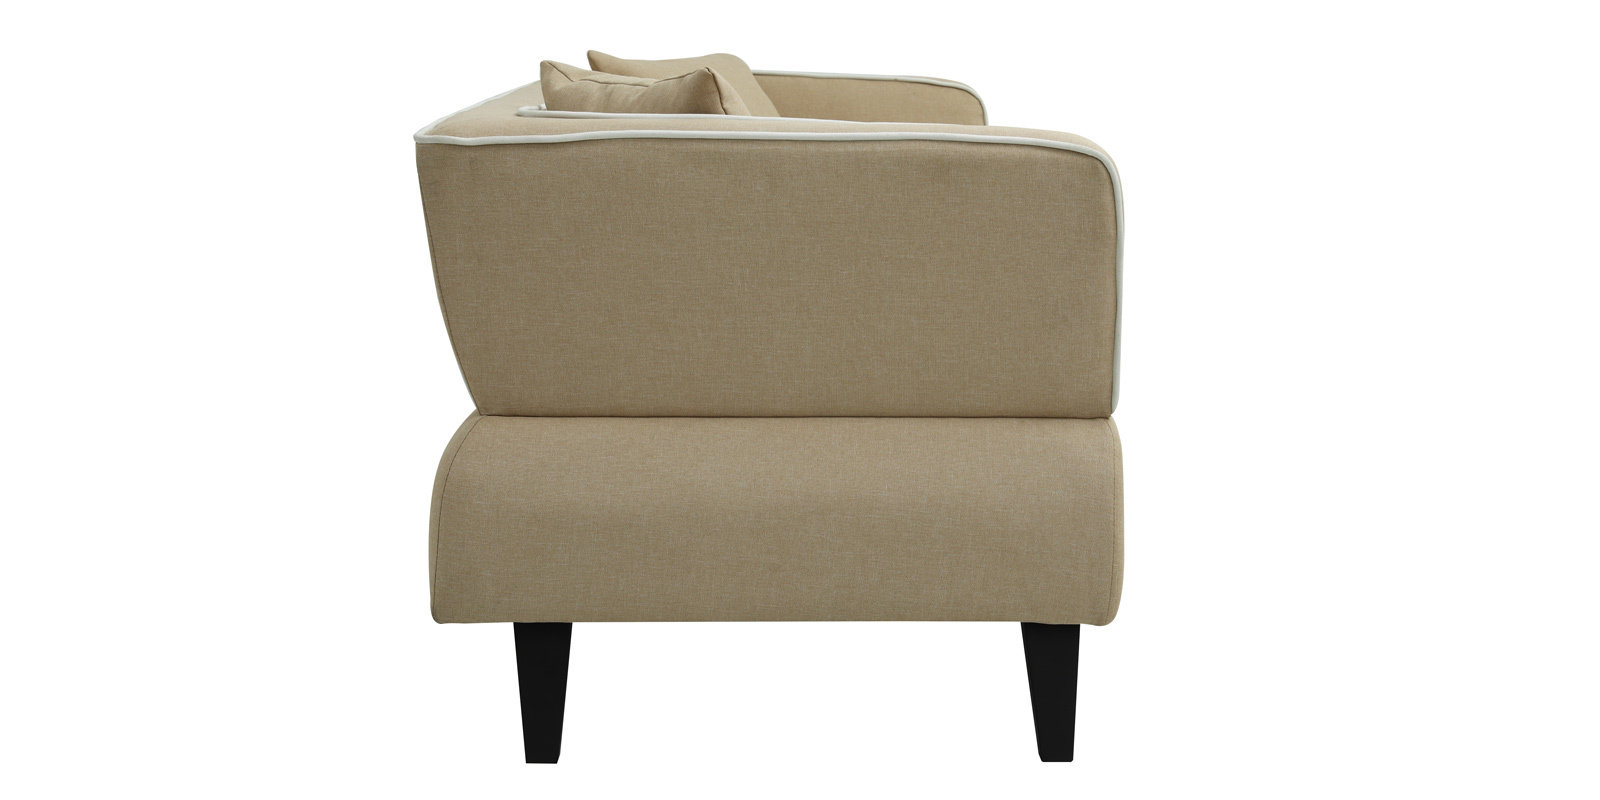Dime Three Seater Sofa in Beige Colour by Zofa: (400, 35, 1128, 772)
